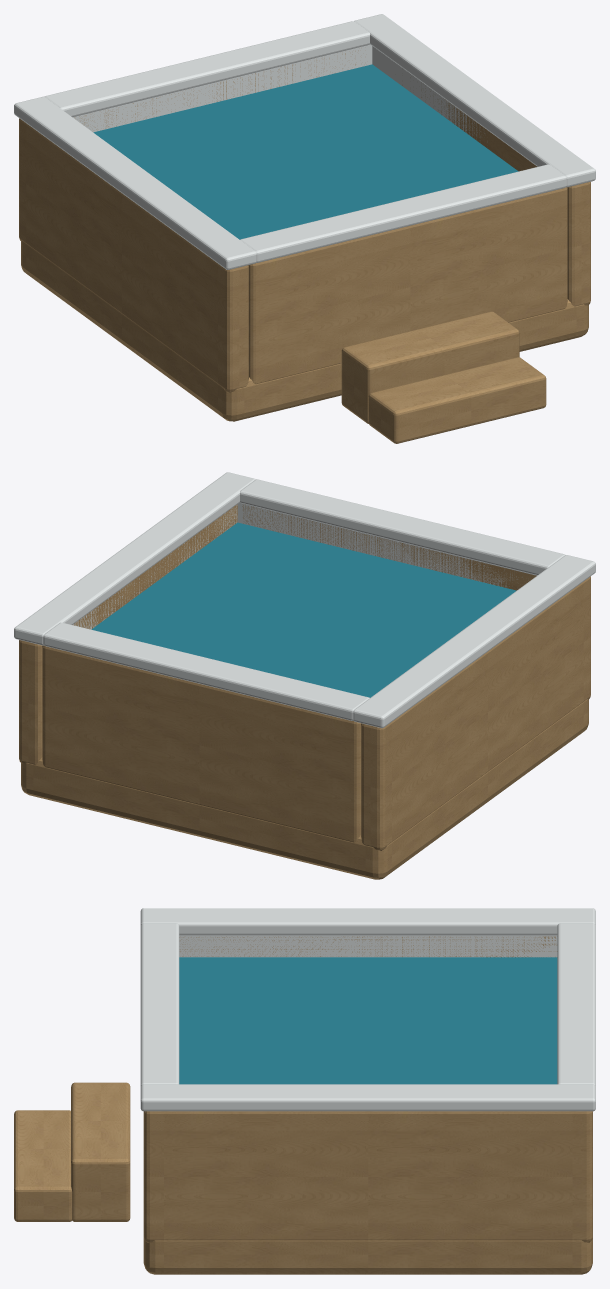
File: hot-tub.glb
3 views of the same model, one above another, from view 1: azimuth 30°, elevation 25°; view 2: azimuth 150°, elevation 25°; view 3: azimuth 270°, elevation 25° (orthographic). The views are drawn at different scales.
Parts seen in each view (by area): view 1: hot-tub — STATIC material batch; view 2: hot-tub — STATIC material batch; view 3: hot-tub — STATIC material batch.
Boxes of the visible parts, box(x1,y1,x2,y2) form: hot-tub — STATIC material batch: box(14, 14, 595, 443); hot-tub — STATIC material batch: box(14, 472, 595, 879); hot-tub — STATIC material batch: box(14, 908, 595, 1274).
Bounding box in the file's own units: 2.23 × 0.9749 × 2.85.
Materials: 4 (4 with a texture image).
